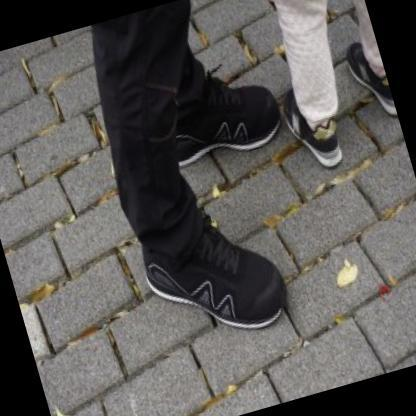safety-shoe: (123, 181, 306, 381), (133, 46, 295, 191)
